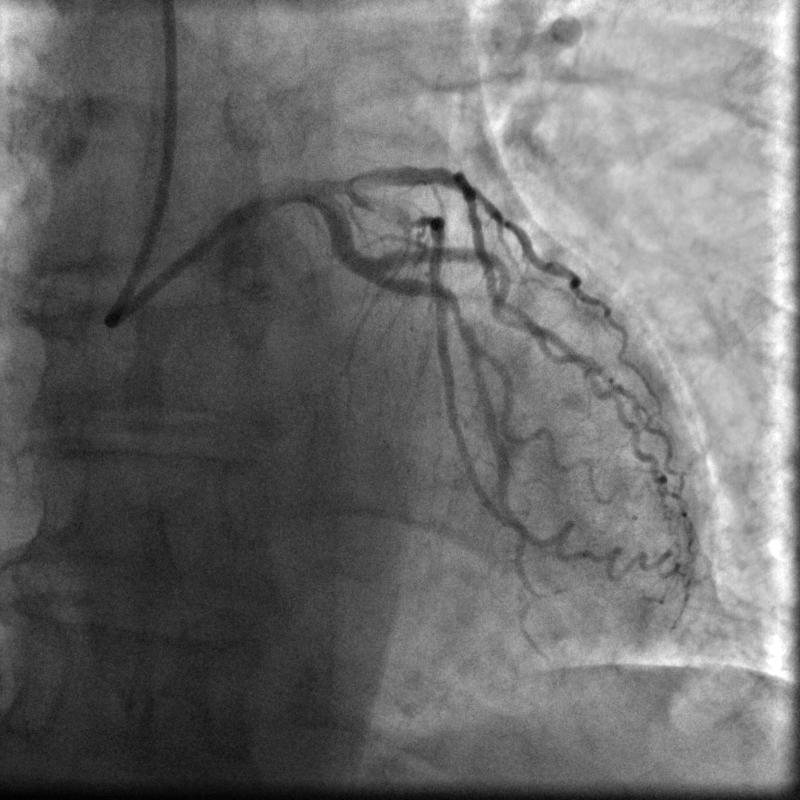Stenosis: (363, 192, 431, 237)
